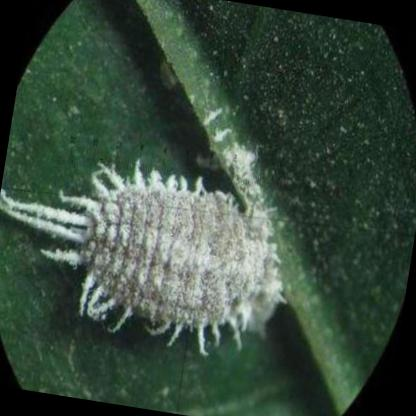mealy bug: (0, 177, 273, 356)
